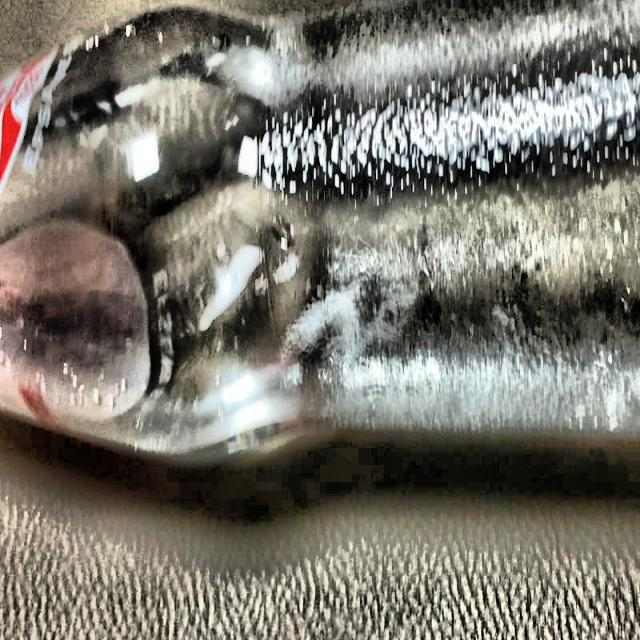plastic: (0, 0, 640, 468)
